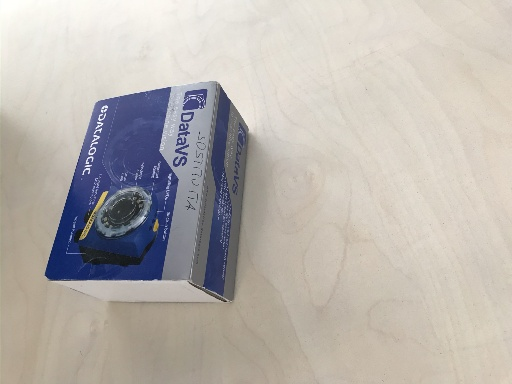Box: (43, 79, 251, 306)
